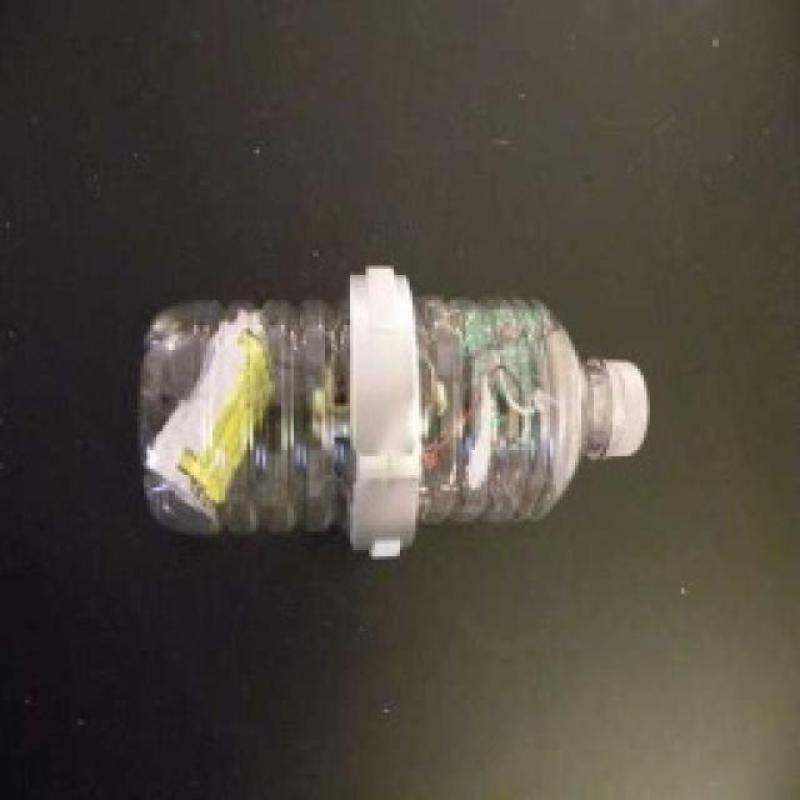botella: (133, 297, 652, 534)
